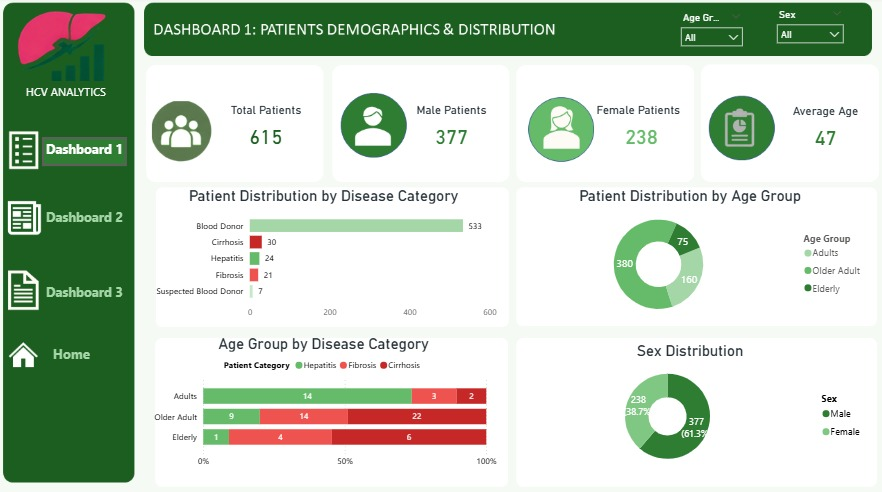

The page's visual inventory and layout, read from the dashboard file:
{"tool":"powerbi","page":{"name":"Dashboard 1","canvas":[1280,720],"ordinal":0},"visuals":[{"type":"card","title":"Total Patients","fields":{"Values":["Hepatitis Measures.Total Patients"]},"box":[318.2,152.6,141.1,76.3],"z":0},{"type":"card","title":"Female Patients","fields":{"Values":["Hepatitis Measures.Female Patients"]},"box":[859.7,152.6,139.7,74.9],"z":1000},{"type":"card","title":"Male Patients","fields":{"Values":["Hepatitis Measures.Male Patients"]},"box":[586.1,152.6,139.7,74.9],"z":2000},{"type":"card","title":"Average Age","fields":{"Values":["Hepatitis Measures.Average Age"]},"box":[1130.4,154.1,128.2,74.9],"z":3000},{"type":"clusteredBarChart","title":" Patient Distribution by Disease Category","fields":{"Category":["Hepatitis Project.Patient Category"],"Y":["CountNonNull(Hepatitis Project.Patient_ID)"]},"box":[217.1,274.3,508.6,198.6],"z":4000},{"type":"donutChart","title":"Patient Distribution by Age Group","fields":{"Category":["Hepatitis Project.Age Group"],"Y":["CountNonNull(Hepatitis Project.Patient_ID)"]},"box":[740,274.3,518.6,198.6],"z":5000},{"type":"donutChart","title":" Sex Distribution","fields":{"Category":["Hepatitis Project.Sex"],"Y":["CountNonNull(Hepatitis Project.Patient_ID)"]},"box":[740,497.1,518.6,190],"z":6000},{"type":"slicer","fields":{"Values":["Hepatitis Project.Sex"]},"box":[1114.3,11.4,115.7,65.7],"z":7000},{"type":"slicer","fields":{"Values":["Hepatitis Project.Age Group"]},"box":[975.7,15.7,108.6,61.4],"z":8000},{"type":"hundredPercentStackedBarChart","title":"Age Group by Disease Category","fields":{"Category":["Hepatitis Project.Patient Category"],"Y":["CountNonNull(Hepatitis Project.Age Group)"],"Series":["Hepatitis Project.Age Group"]},"box":[217.1,487.1,508.6,200],"z":9000},{"type":"textbox","box":[66.2,201.6,122.4,41.8],"z":10000},{"type":"textbox","box":[66.2,407.5,122.4,41.8],"z":11000},{"type":"textbox","box":[66.2,299.5,122.4,49],"z":12000},{"type":"textbox","box":[66.2,496.8,85,47.5],"z":13000},{"type":"actionButton","box":[66.2,201.6,122.4,41.8],"z":14000},{"type":"actionButton","box":[66.2,299.5,122.4,40.3],"z":15000},{"type":"actionButton","box":[66.2,407.5,122.4,41.8],"z":16000},{"type":"textbox","box":[13,121,175.7,33.1],"z":17000}]}

Visuals, with their boxes on the page's 1280x720 design canvas (x1, y1, x2, y2). These are canvas units, not pixel positions in the 882x492 screenshot, which may show the page scaled, cropped or inside an application window:
"Total Patients" card: (x1=318, y1=153, x2=459, y2=229)
"Female Patients" card: (x1=860, y1=153, x2=999, y2=228)
"Male Patients" card: (x1=586, y1=153, x2=726, y2=228)
"Average Age" card: (x1=1130, y1=154, x2=1259, y2=229)
" Patient Distribution by Disease Category" clusteredBarChart: (x1=217, y1=274, x2=726, y2=473)
"Patient Distribution by Age Group" donutChart: (x1=740, y1=274, x2=1259, y2=473)
" Sex Distribution" donutChart: (x1=740, y1=497, x2=1259, y2=687)
slicer - Hepatitis Project.Sex: (x1=1114, y1=11, x2=1230, y2=77)
slicer - Hepatitis Project.Age Group: (x1=976, y1=16, x2=1084, y2=77)
"Age Group by Disease Category" hundredPercentStackedBarChart: (x1=217, y1=487, x2=726, y2=687)
textbox: (x1=66, y1=202, x2=189, y2=243)
textbox: (x1=66, y1=408, x2=189, y2=449)
textbox: (x1=66, y1=300, x2=189, y2=348)
textbox: (x1=66, y1=497, x2=151, y2=544)
actionButton: (x1=66, y1=202, x2=189, y2=243)
actionButton: (x1=66, y1=300, x2=189, y2=340)
actionButton: (x1=66, y1=408, x2=189, y2=449)
textbox: (x1=13, y1=121, x2=189, y2=154)
